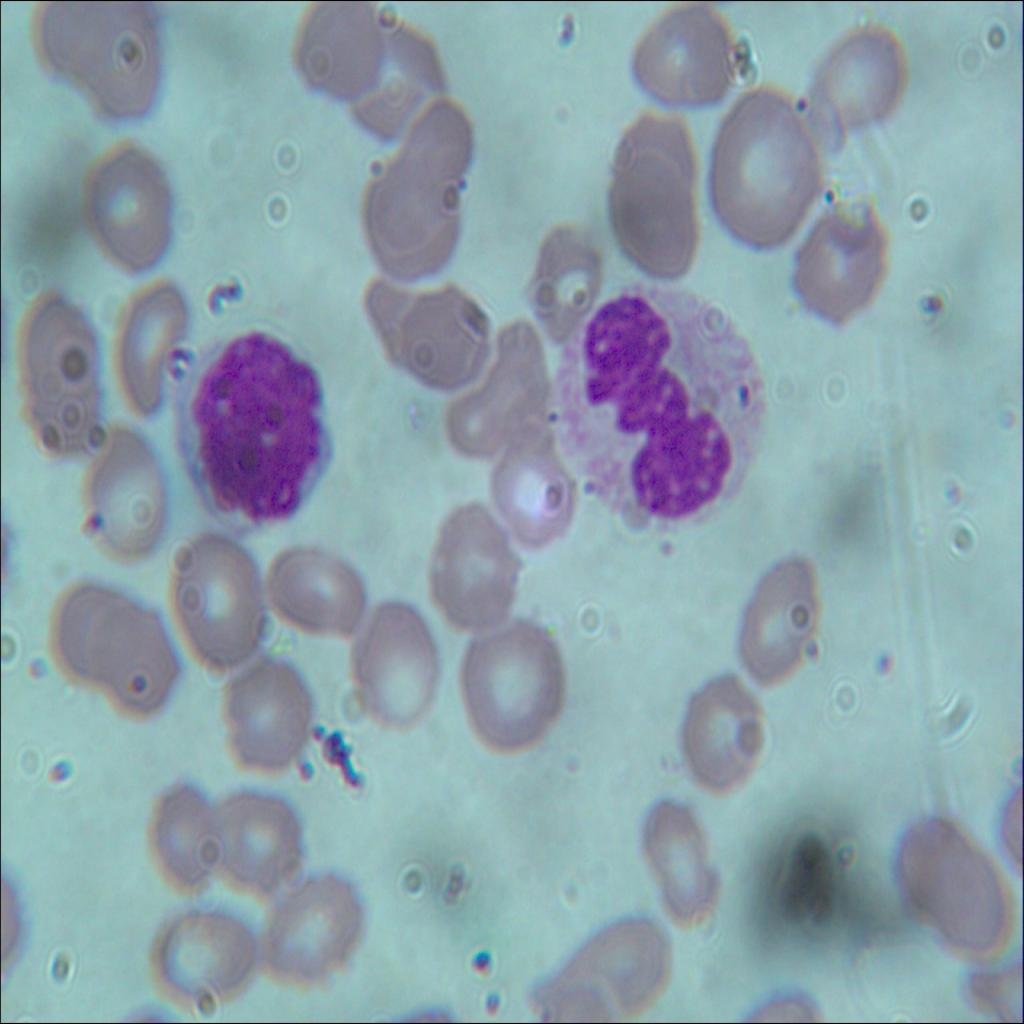Eritrosit: (704, 85, 829, 242), (886, 810, 1018, 954), (166, 524, 268, 669), (626, 775, 722, 928), (348, 589, 446, 737), (422, 492, 528, 625), (460, 627, 570, 754), (733, 538, 826, 682), (794, 200, 892, 328), (216, 642, 314, 770), (568, 906, 675, 1023), (102, 275, 191, 415), (268, 534, 379, 646), (74, 431, 171, 559), (364, 159, 466, 280), (83, 138, 179, 264), (804, 15, 911, 128), (259, 874, 366, 984), (436, 349, 538, 464), (346, 18, 444, 136), (388, 284, 493, 394), (626, 4, 740, 105), (154, 902, 256, 1012), (610, 159, 698, 277), (18, 371, 124, 467), (144, 772, 231, 888), (486, 428, 572, 542), (210, 788, 304, 892), (98, 608, 186, 719), (81, 4, 171, 112), (393, 94, 478, 208), (6, 285, 96, 391), (604, 109, 698, 207), (293, 0, 384, 100), (678, 684, 766, 785), (26, 0, 116, 97), (522, 227, 600, 337), (58, 584, 136, 680), (482, 318, 550, 421), (534, 954, 614, 1023)
Limfoblast: (159, 322, 348, 532)
Neutrofil: (553, 277, 773, 544)
Platelet: (458, 938, 496, 984), (788, 78, 823, 124), (816, 168, 846, 214), (290, 748, 318, 790), (868, 638, 898, 677), (304, 708, 326, 740)
